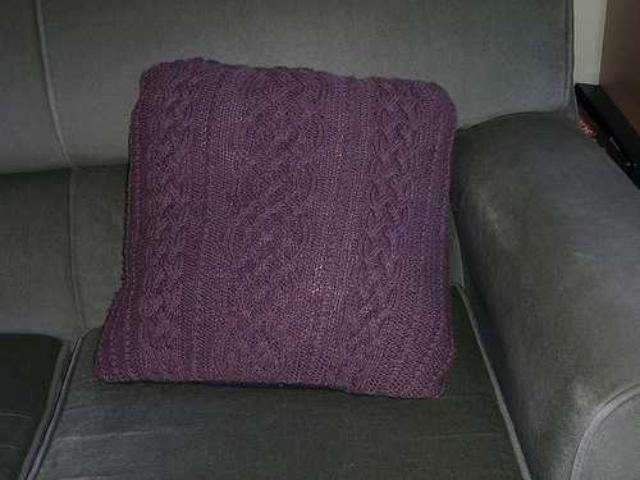pillow: (91, 56, 457, 398)
